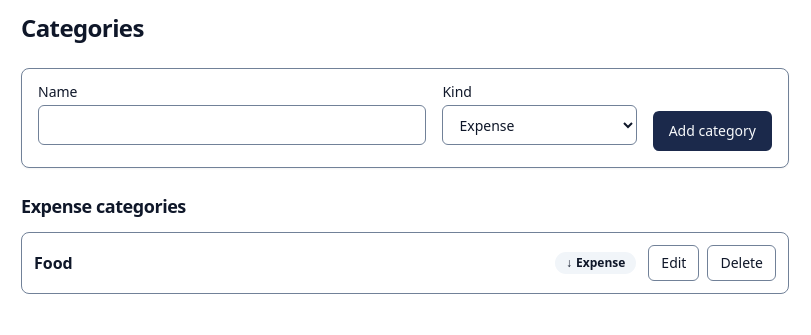
Test: edit a category (Story-004 AC-1) › T-030 Cancel restores the row and sends no request
The image size is (811, 335).
Expected: the text "Food" is shown, [34,252,73,274]
Click the button with aria-label "Edit Food": (674, 263) [648,245,700,281]
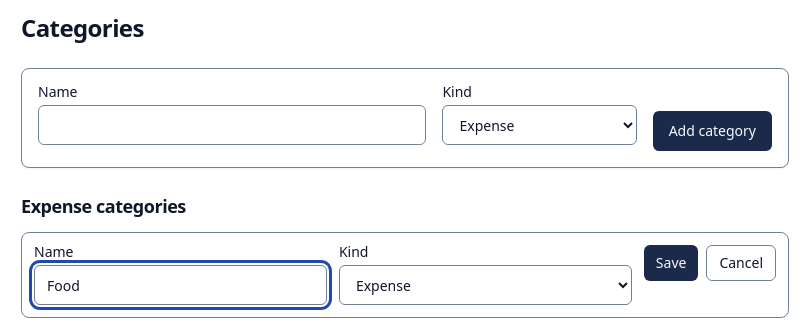
Replace the text in the field labelled "Name" below "Expense" with "Other": (180, 285) [34,265,327,305]
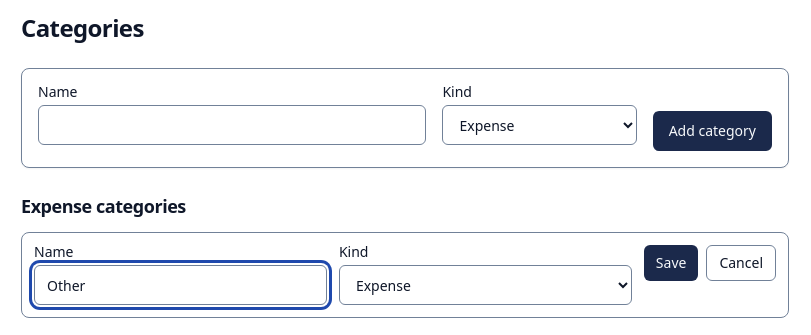
Click the button with aria-label "Cancel editing Food": (741, 263) [706,245,776,281]
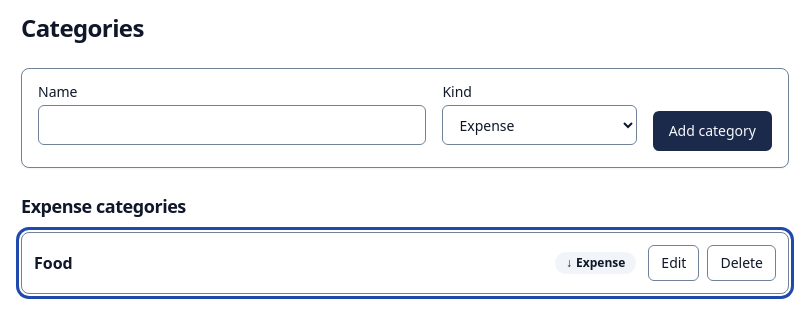
Expected: the text "Food" is shown, [34,252,73,274]
